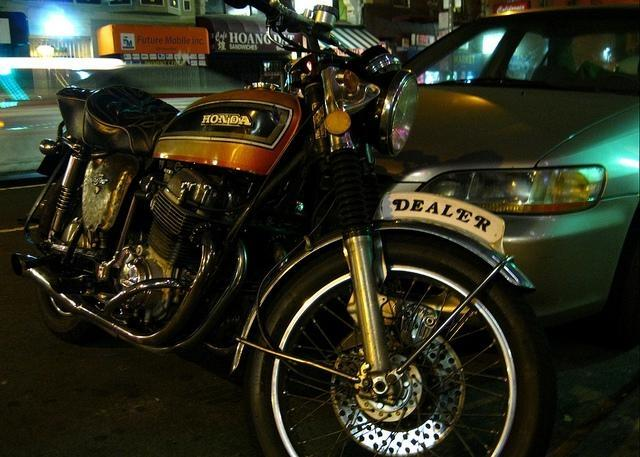car: (389, 5, 640, 339), (1, 66, 250, 176)
motorcycle: (17, 1, 544, 451)
